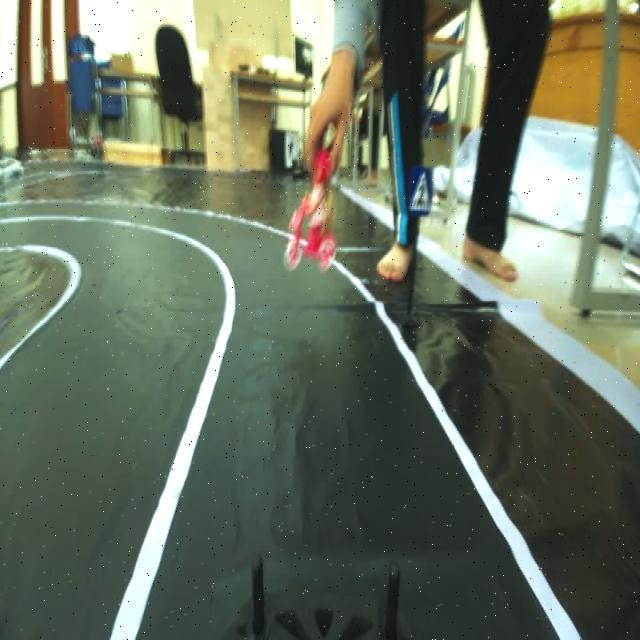crosswalk: (406, 162, 436, 222)
pedestrian: (282, 150, 332, 263)
